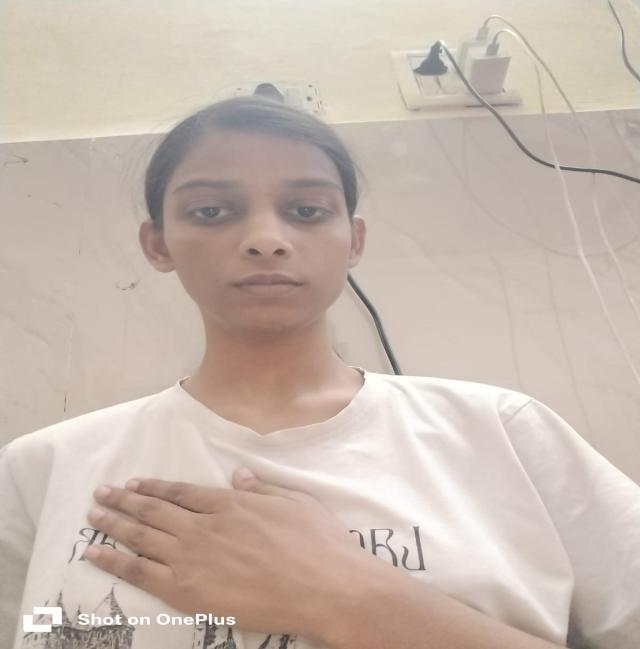Please: (64, 456, 382, 636)
